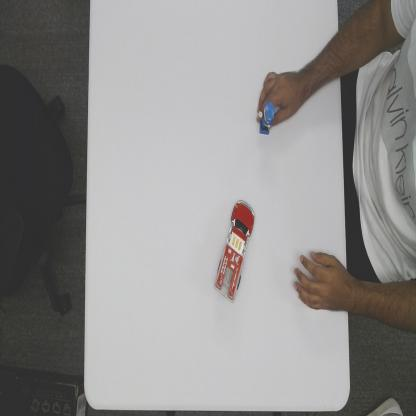Arm: (300, 36, 341, 99)
Firetruck: (213, 197, 256, 303)
Hand: (292, 248, 347, 315), (256, 66, 301, 127)
